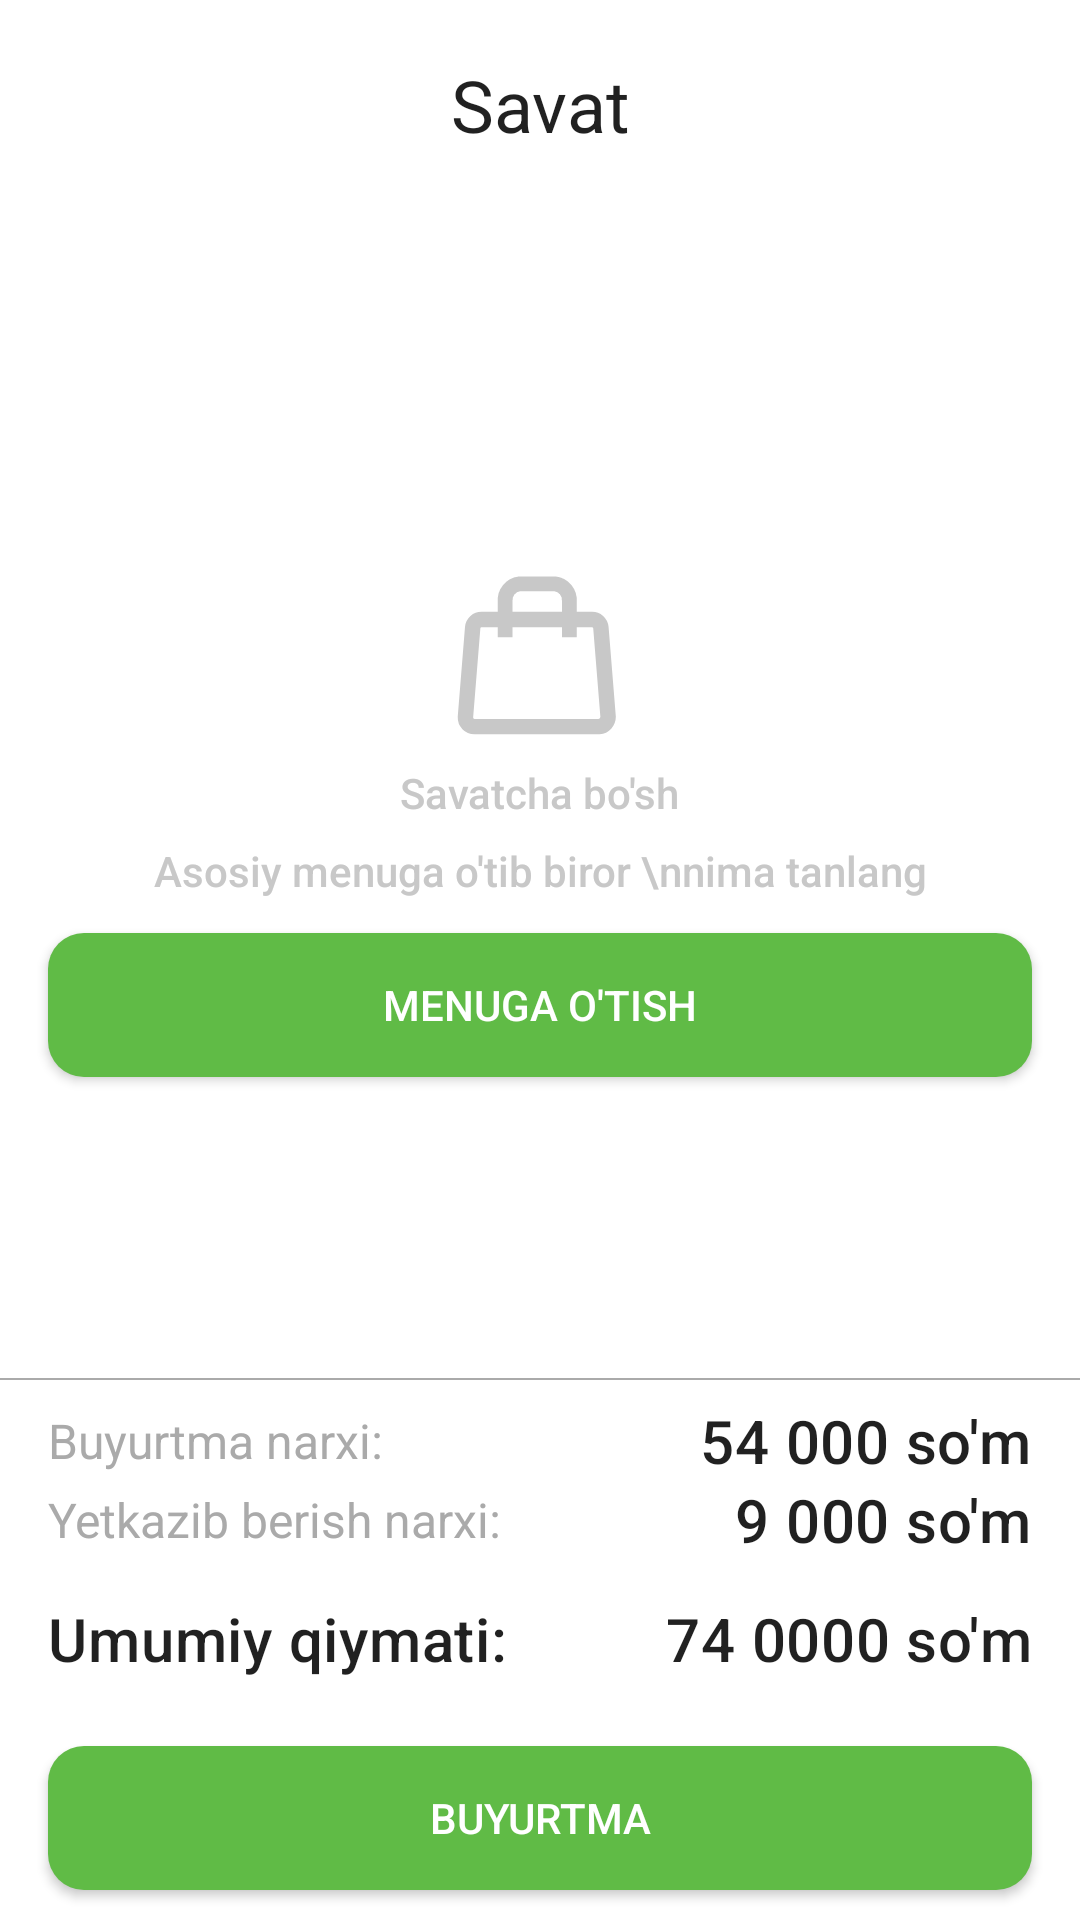

Screen size 1080 x 1920. Icon name, then its box in pixels as {"left": x1, "top": y1, "right": x2, "bottom": y2}:
basket: {"left": 458, "top": 576, "right": 616, "bottom": 734}
